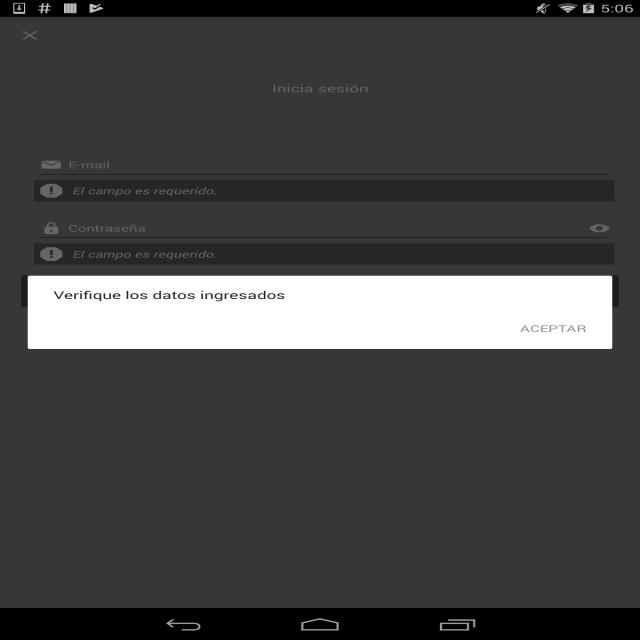EditText: (30, 218, 627, 240)
ImageButton: (12, 24, 49, 47)
TextView: (32, 154, 626, 178), (49, 285, 296, 303), (266, 78, 383, 100), (507, 318, 596, 334)
